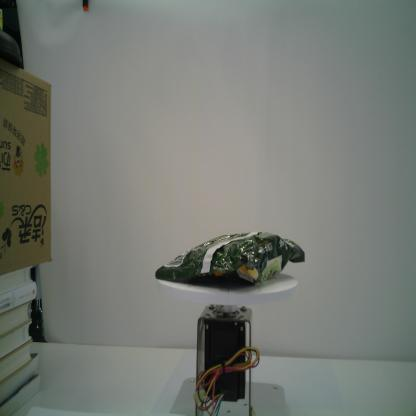Instant Noodles: (153, 228, 308, 287)
